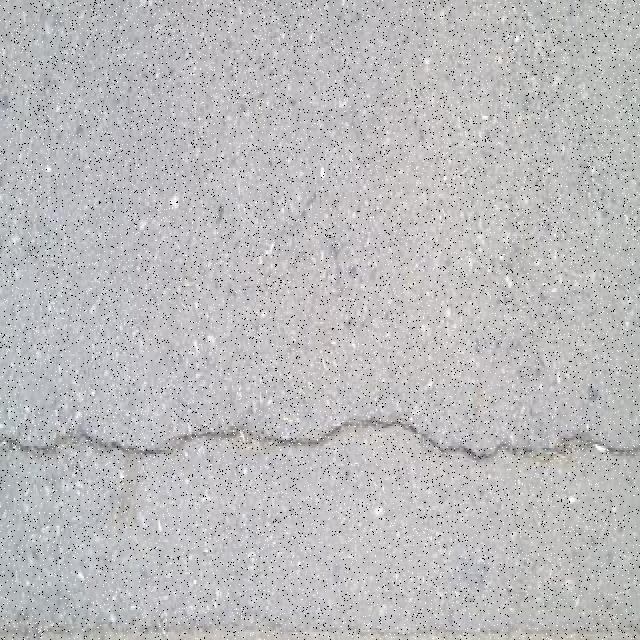minor crack: (0, 618, 626, 638), (395, 420, 506, 454), (547, 431, 636, 456)
severe crack: (314, 412, 420, 438)
